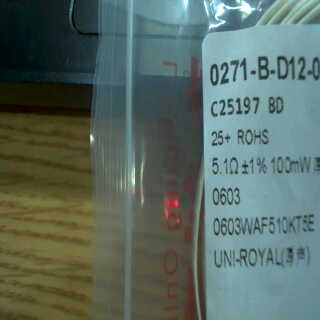5.1R: (207, 152, 240, 183)
